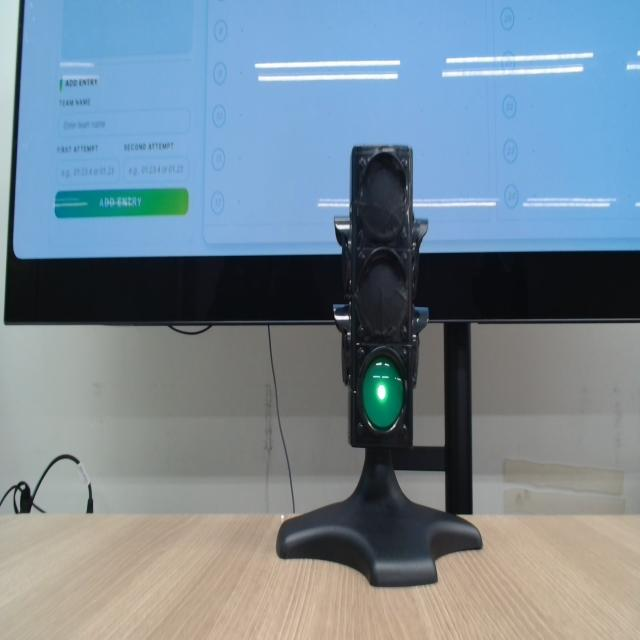green_light: (362, 357, 404, 431)
